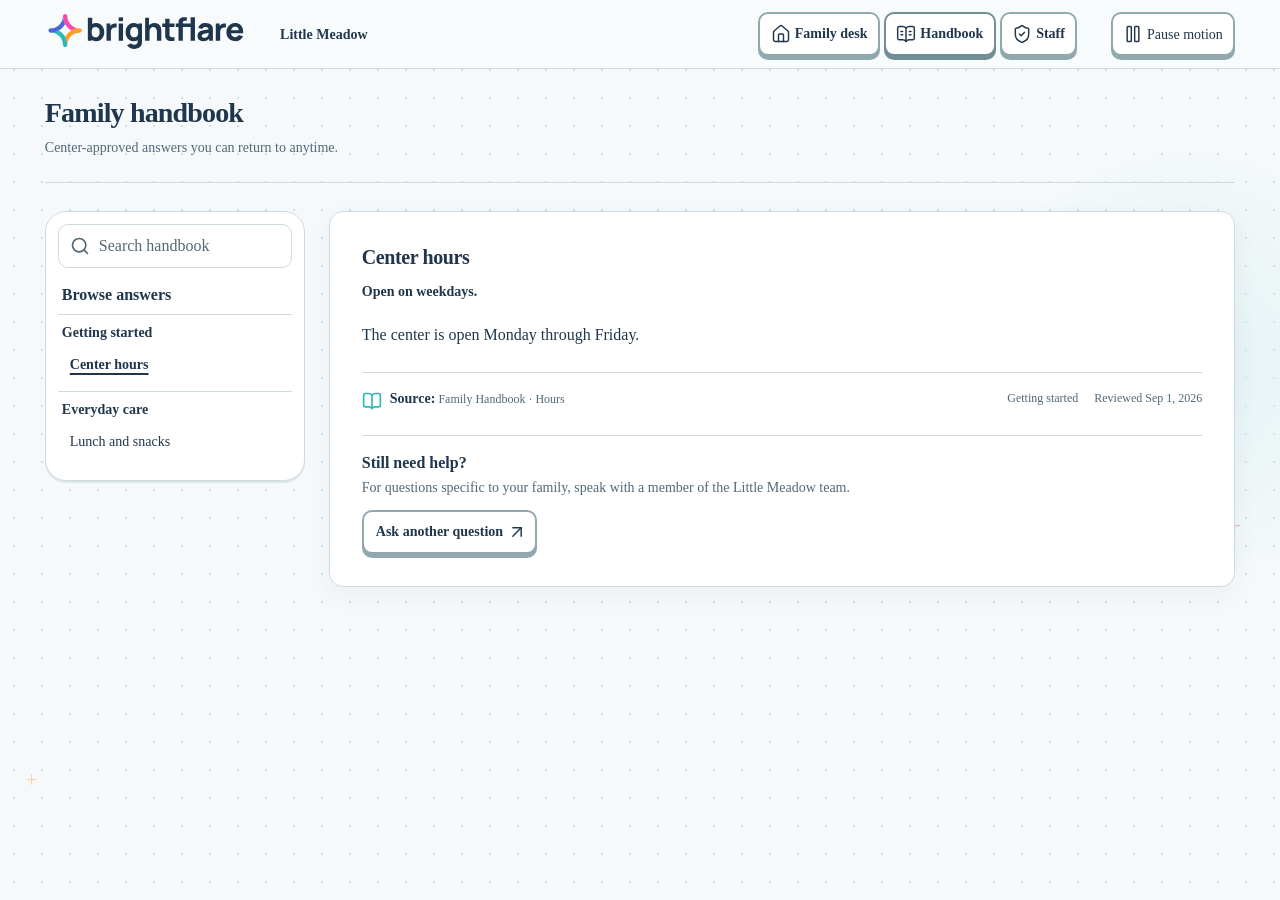
Scenario: HandbookBrowser › searches published handbook fields while retaining the selected article until a result is opened
Type "allergies" into the search field labelled "Search handbook" at (175, 246), box [58,224,292,268]
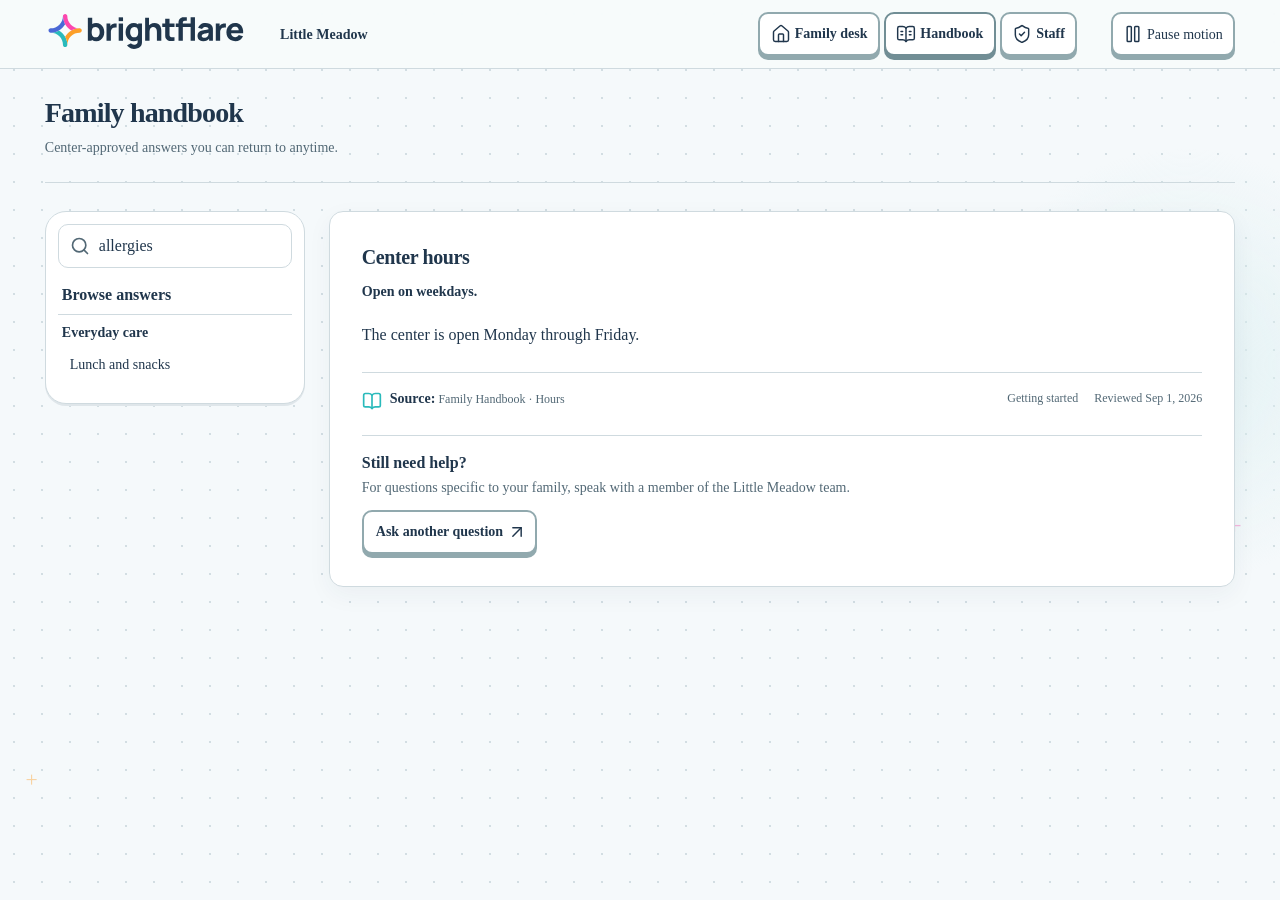
Expected: the heading "Center hours" is shown, [362,246,469,268]
Replace the text in the search field named "Search handbook" with "not in the handbook" at (175, 246), box [58,224,292,268]
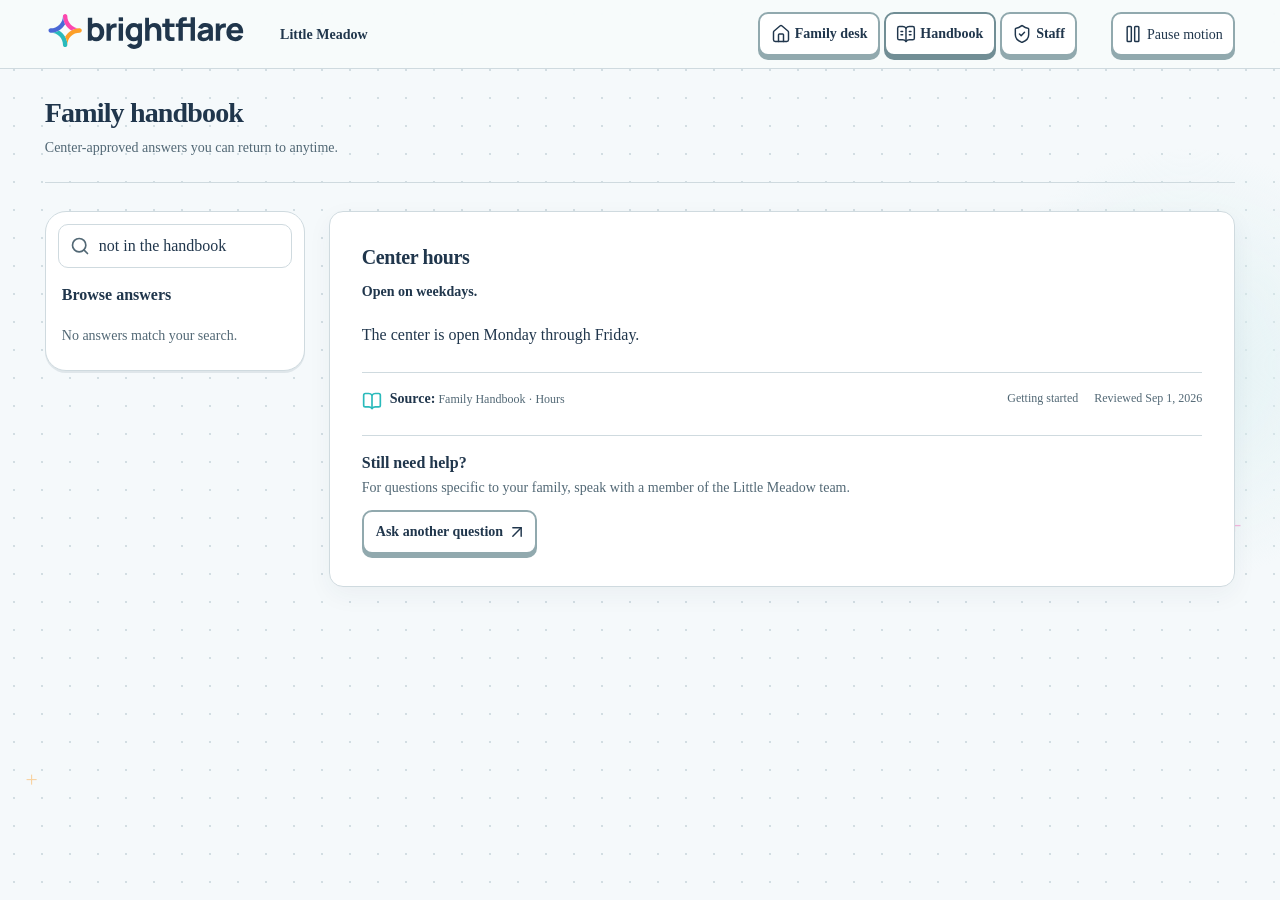
Result: the message reads "No answers match your search." at [62,328,237,343]
